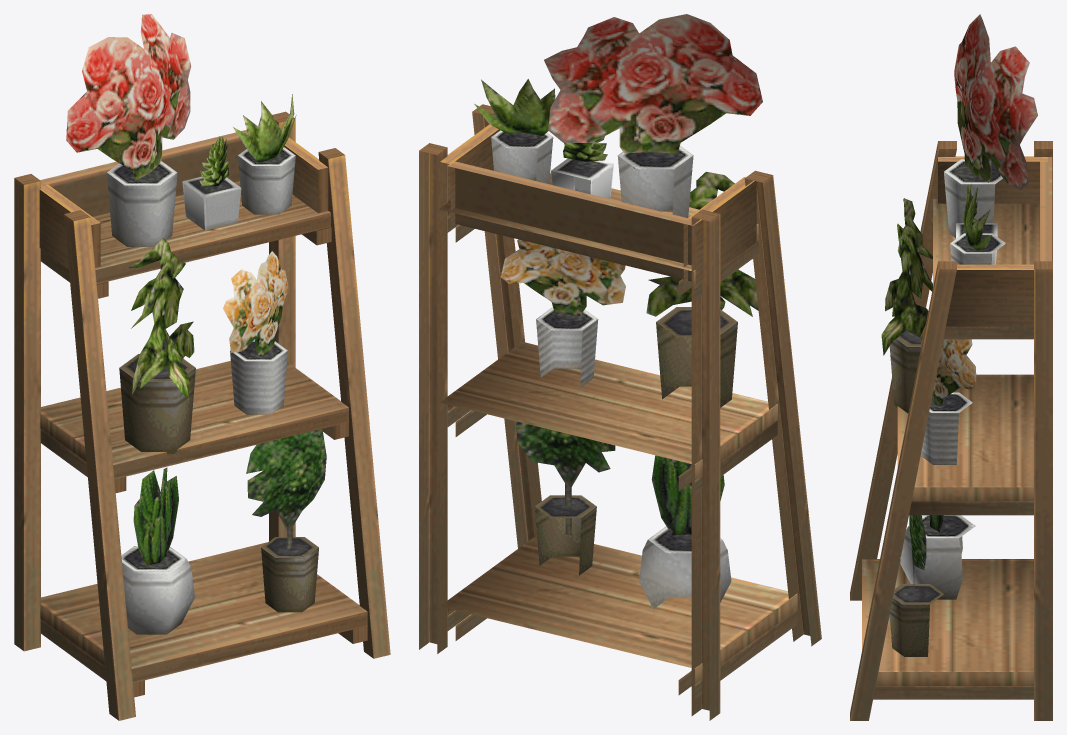
File: hbxz_wj017_03.FBX
3 renders of one model, left to right at view 1: azimuth 30°, elevation 25°; view 2: azimuth 150°, elevation 25°; view 3: azimuth 270°, elevation 25°, orthographic. The views are drawn at different scales.
Visible parts, largest first — view 1: hbxz_wj017_03; view 2: hbxz_wj017_03; view 3: hbxz_wj017_03.
Boxes of the visible parts, left/top/right/bottom form: hbxz_wj017_03: left=14, top=14, right=390, bottom=720; hbxz_wj017_03: left=419, top=14, right=821, bottom=720; hbxz_wj017_03: left=850, top=14, right=1052, bottom=720.
Size of the model in its own units: 73.56 by 160 by 49.18.
Materials: 1 (1 with a texture image).
